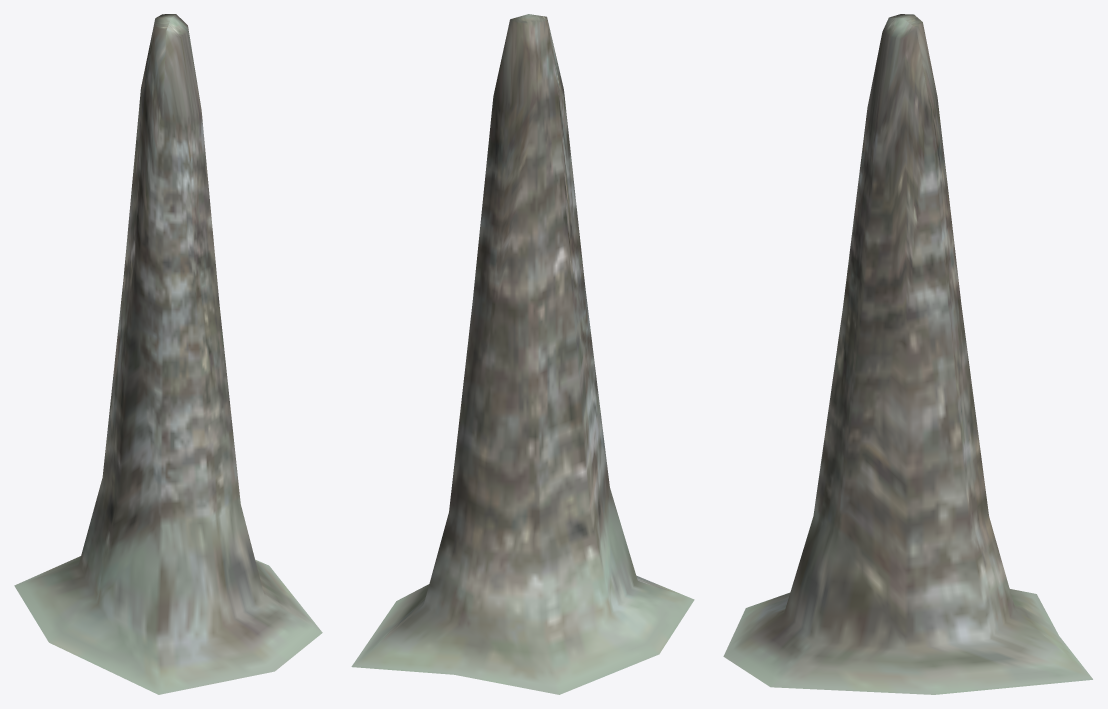
The model's file is TROLLHOLE02_PS-MAINSTALAG37.fbx.
3 renders of one model, left to right at view 1: azimuth 30°, elevation 25°; view 2: azimuth 150°, elevation 25°; view 3: azimuth 270°, elevation 25°, orthographic. The views are drawn at different scales.
Parts seen in each view (by area): view 1: TROLLHOLE02_PS-MAINSTALAG37; view 2: TROLLHOLE02_PS-MAINSTALAG37; view 3: TROLLHOLE02_PS-MAINSTALAG37.
Boxes of the visible parts, x1=… form: TROLLHOLE02_PS-MAINSTALAG37: x1=14, y1=14, x2=322, y2=694; TROLLHOLE02_PS-MAINSTALAG37: x1=351, y1=14, x2=694, y2=694; TROLLHOLE02_PS-MAINSTALAG37: x1=723, y1=14, x2=1092, y2=694.
Bounding box in the file's own units: 22042 × 53266 × 28176.
1 material, 1 textured.
